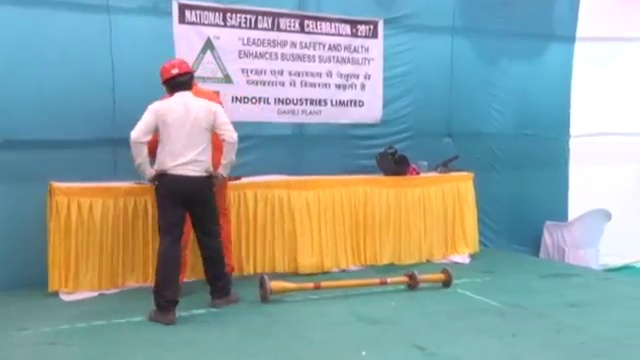helmet: (155, 57, 195, 80)
helmet_on: (156, 56, 195, 93)
person: (128, 54, 240, 323)
